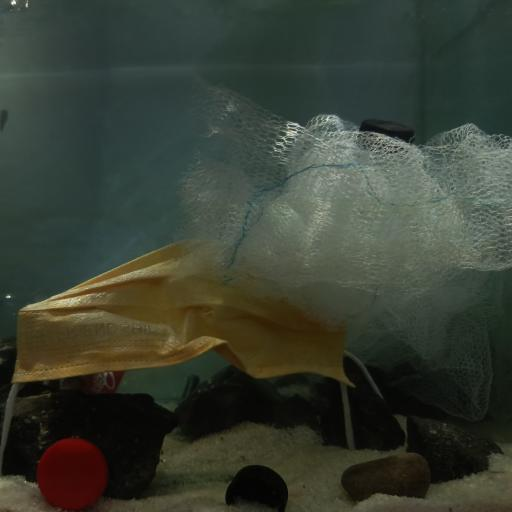bottle_cap: (38, 437, 108, 512), (226, 464, 290, 512), (357, 116, 417, 154)
mask: (13, 235, 363, 397)
net: (171, 65, 512, 428)
plastic_bottle: (1, 281, 205, 405)
